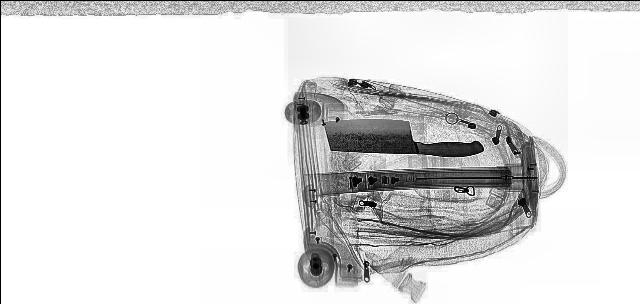Knife: (322, 119, 482, 157)
